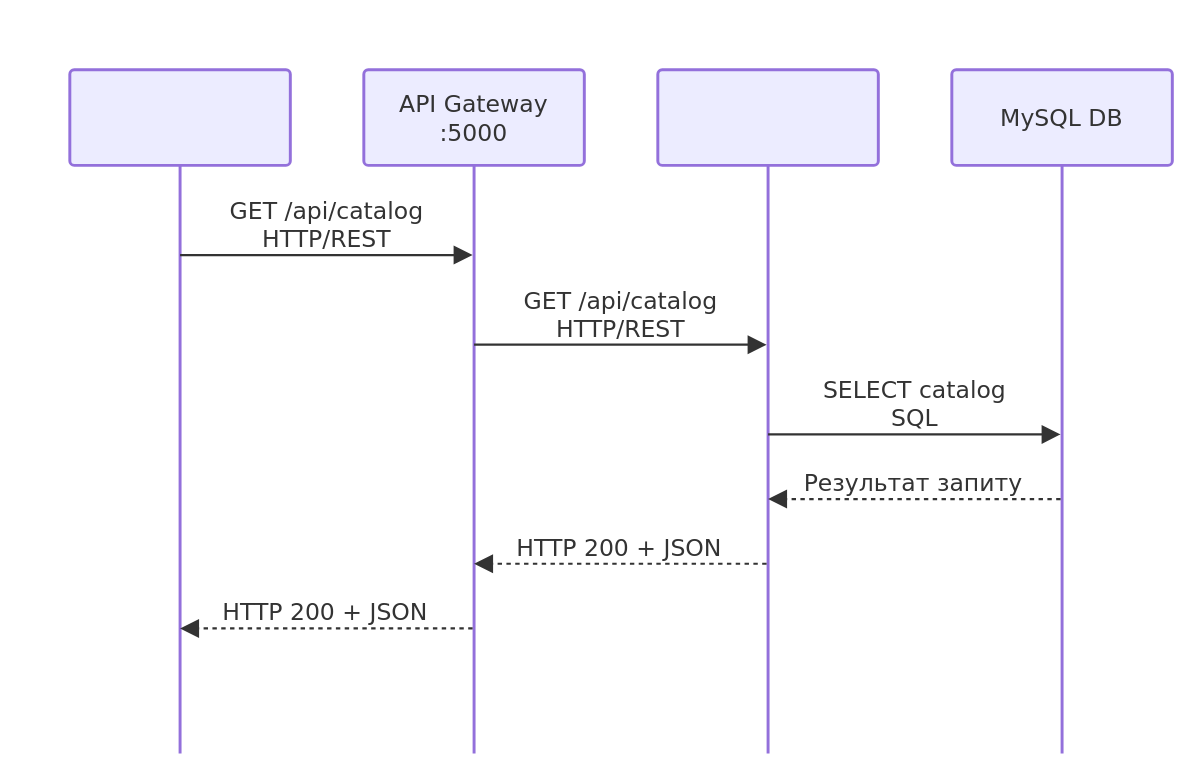
Some shapes in this 1198 by 779 pixel diagram are drawn without their labels. Here are the shapes that lost their labels. From the top down, the box of each, then its label:
(68, 68, 291, 754): Клієнт
(656, 68, 879, 754): Моноліт :5100
